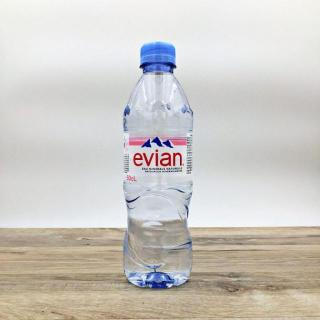Anorganik: (116, 36, 205, 296)
